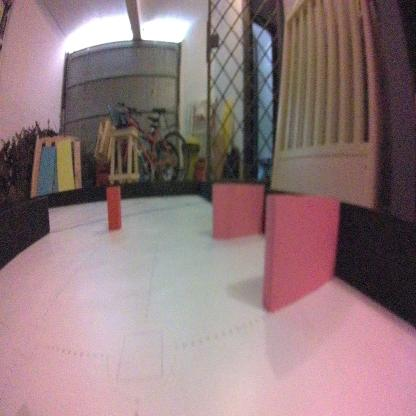magenta: (264, 193, 340, 314), (210, 180, 264, 238)
